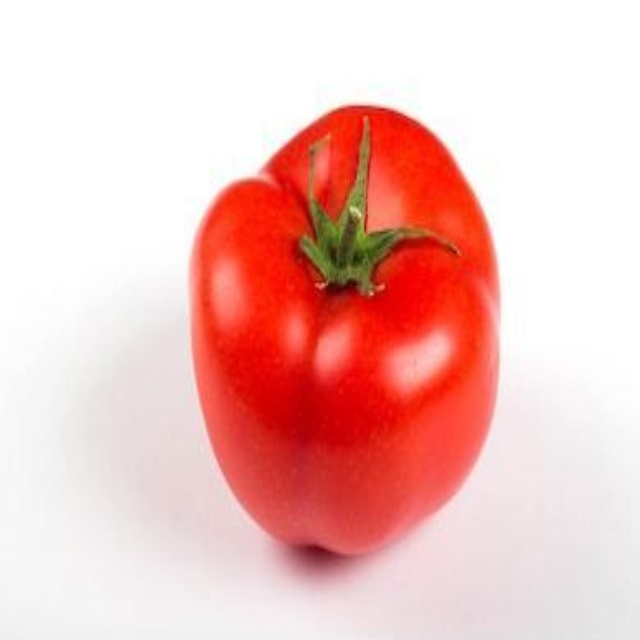tomato: (189, 100, 503, 554)
